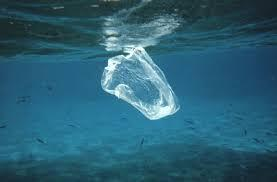Plastic bag: (95, 36, 193, 132)
